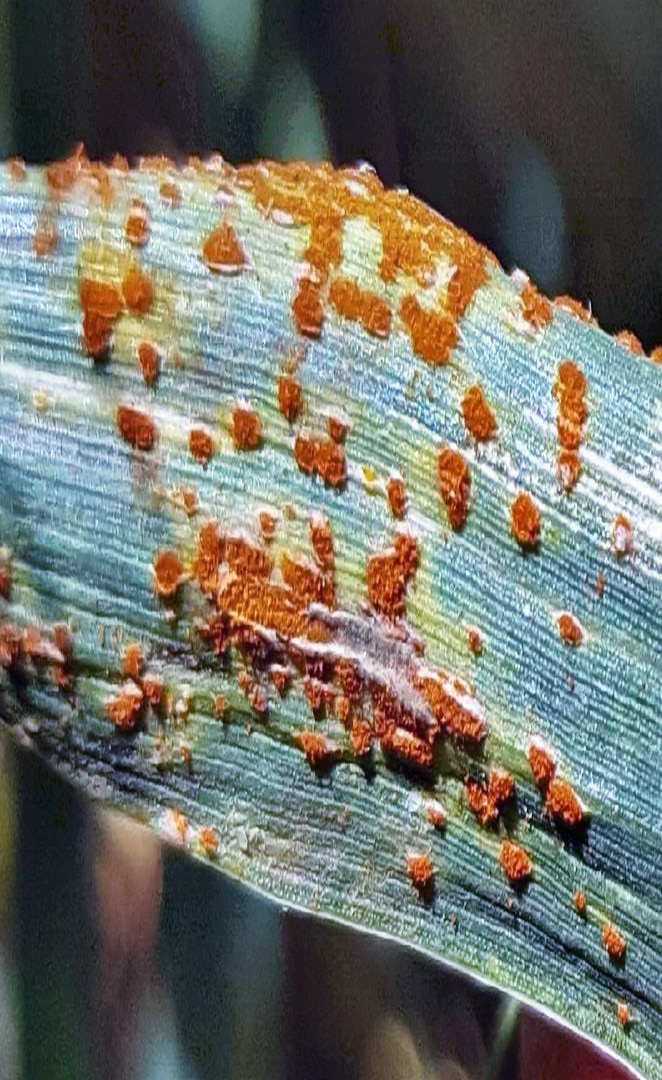Leaf Rust: (53, 157, 611, 945)
